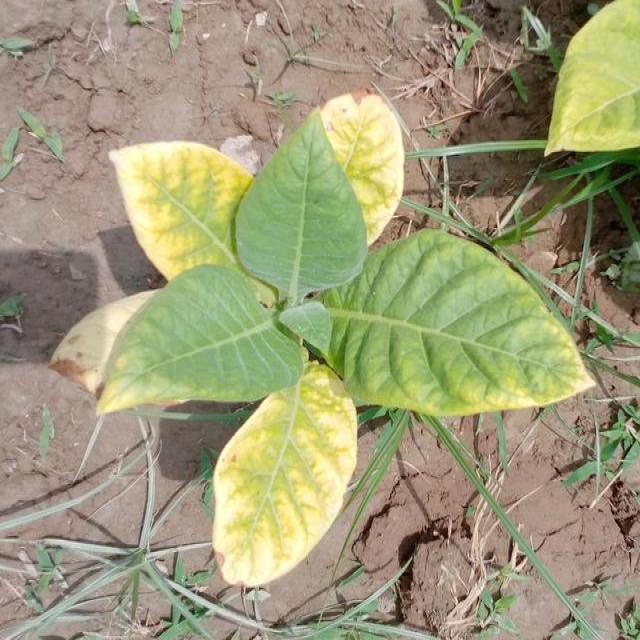crop: (60, 89, 596, 585)
